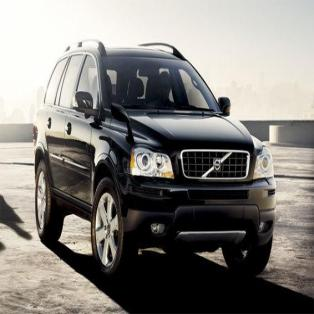Auto: (33, 41, 277, 285)
